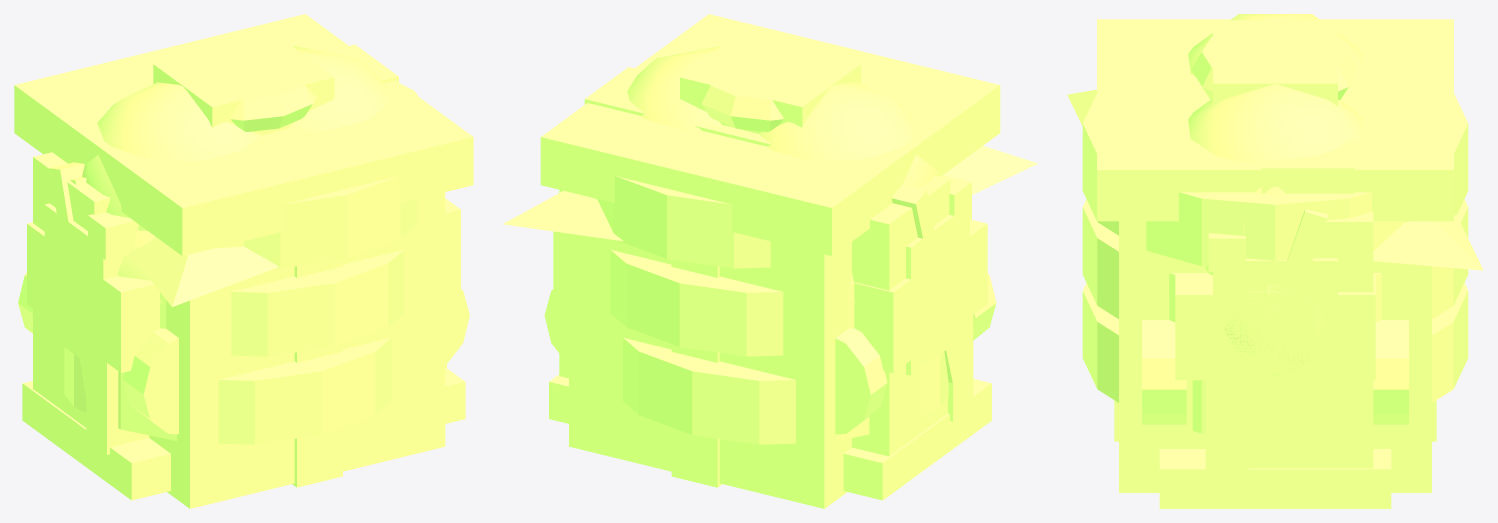
File: ep-icons.glb
3 views of the same model, side by side, from view 1: azimuth 30°, elevation 25°; view 2: azimuth 150°, elevation 25°; view 3: azimuth 270°, elevation 25° (orthographic). The views are drawn at different scales.
Parts seen in each view (by area): view 1: ico-gift, ico-coin, ico-cross, ico-car, ico-heart, ico-bank, ico-wallet, ico-card, ico-piggy; view 2: ico-gift, ico-coin, ico-car, ico-cross, ico-wallet, ico-heart, ico-bank, ico-card; view 3: ico-gift, ico-car, ico-coin, ico-wallet, ico-cross, ico-bank, ico-heart, ico-card, ico-piggy.
Boxes of the visible parts, x1,y1,x2,y2 form: ico-gift: (14, 14, 473, 508); ico-coin: (64, 85, 418, 444); ico-cross: (44, 34, 334, 374); ico-car: (18, 198, 469, 434); ico-heart: (82, 46, 391, 230); ico-bank: (22, 237, 465, 500); ico-wallet: (33, 44, 446, 454); ico-card: (49, 162, 98, 411); ico-piggy: (117, 230, 162, 304); ico-gift: (540, 14, 1000, 508); ico-coin: (597, 176, 948, 444); ico-car: (544, 219, 996, 434); ico-cross: (680, 34, 969, 375); ico-wallet: (559, 67, 973, 456); ico-heart: (627, 46, 939, 188); ico-bank: (503, 146, 1037, 500); ico-card: (891, 184, 964, 389); ico-gift: (1097, 19, 1453, 492); ico-car: (1142, 273, 1408, 424); ico-coin: (1082, 93, 1468, 433); ico-wallet: (1205, 78, 1373, 478); ico-cross: (1213, 20, 1337, 396); ico-bank: (1067, 89, 1483, 508); ico-heart: (1188, 14, 1362, 275); ico-card: (1223, 209, 1327, 445); ico-piggy: (1225, 284, 1324, 375).
Size of the model in its own units: 1 by 1 by 1.
